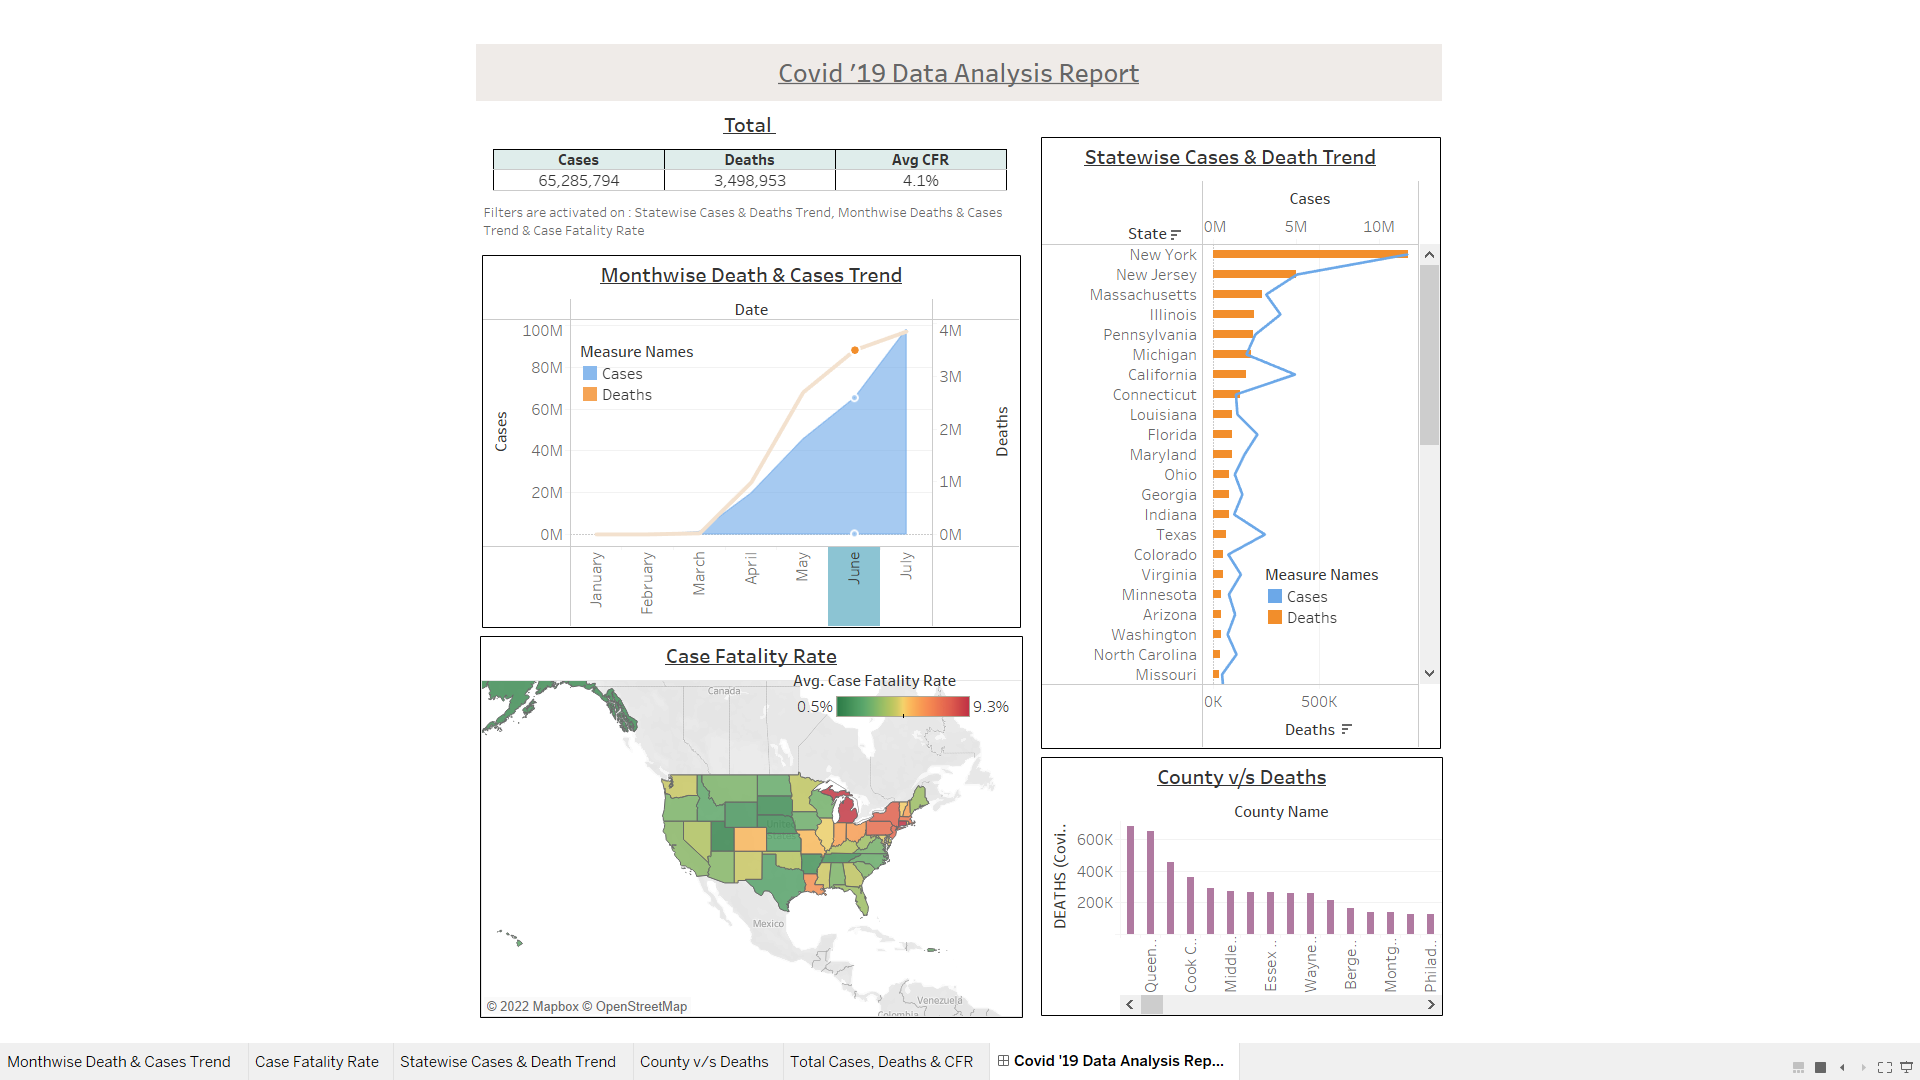

Layout of this report page (visuals, bound fields, positions):
{"tool":"tableau","page":{"name":"Covid '19 Data Analysis Report","canvas":[1000,1000],"ordinal":0},"visuals":[{"type":"text","box":[16,23,966,57]},{"type":"worksheet","title":"Total Cases, Deaths & CFR","mark":"Automatic","box":[33,85,558,86]},{"type":"worksheet","title":"Statewise Cases & Death Trend","mark":"Automatic","rows":["STATE"],"cols":["DEATHS","CASES"],"box":[581,116,400,612]},{"type":"text","box":[20,164,540,72]},{"type":"worksheet","title":"Monthwise Death & Cases Trend","mark":"Automatic","rows":["CASES","DEATHS"],"cols":["DATE"],"box":[22,234,539,373]},{"type":"legend","title":"Monthwise Death & Cases Trend","param":"[federated.0ui7ffg10hddcb1d2uvlm0c506nb].[:Measure Names]","box":[120,320,150,67]},{"type":"legend","title":"Statewise Cases & Death Trend","param":"[federated.0ui7ffg10hddcb1d2uvlm0c506nb].[:Measure Names]","box":[805,543,124,72]},{"type":"worksheet","title":"Case Fatality Rate","mark":"Automatic","box":[20,615,543,382]},{"type":"legend","title":"Case Fatality Rate","param":"[federated.0ui7ffg10hddcb1d2uvlm0c506nb].[avg:Calculation_444730521132519424:qk]","box":[333,649,221,58]},{"type":"worksheet","title":"County v/s Deaths","mark":"Automatic","rows":["DEATHS (Covid_County_Level_Data.csv)"],"cols":["COUNTY_NAME"],"box":[581,736,402,259]}]}

Visuals, with their boxes on the page's 1000x1000 design canvas (x1, y1, x2, y2). These are canvas units, not pixel positions in the 1920x1080 screenshot, which may show the page scaled, cropped or inside an application window:
text: l=16, t=23, r=982, b=80
"Total Cases, Deaths & CFR" worksheet: l=33, t=85, r=591, b=171
"Statewise Cases & Death Trend" worksheet: l=581, t=116, r=981, b=728
text: l=20, t=164, r=560, b=236
"Monthwise Death & Cases Trend" worksheet: l=22, t=234, r=561, b=607
"Monthwise Death & Cases Trend" legend: l=120, t=320, r=270, b=387
"Statewise Cases & Death Trend" legend: l=805, t=543, r=929, b=615
"Case Fatality Rate" worksheet: l=20, t=615, r=563, b=997
"Case Fatality Rate" legend: l=333, t=649, r=554, b=707
"County v/s Deaths" worksheet: l=581, t=736, r=983, b=995
